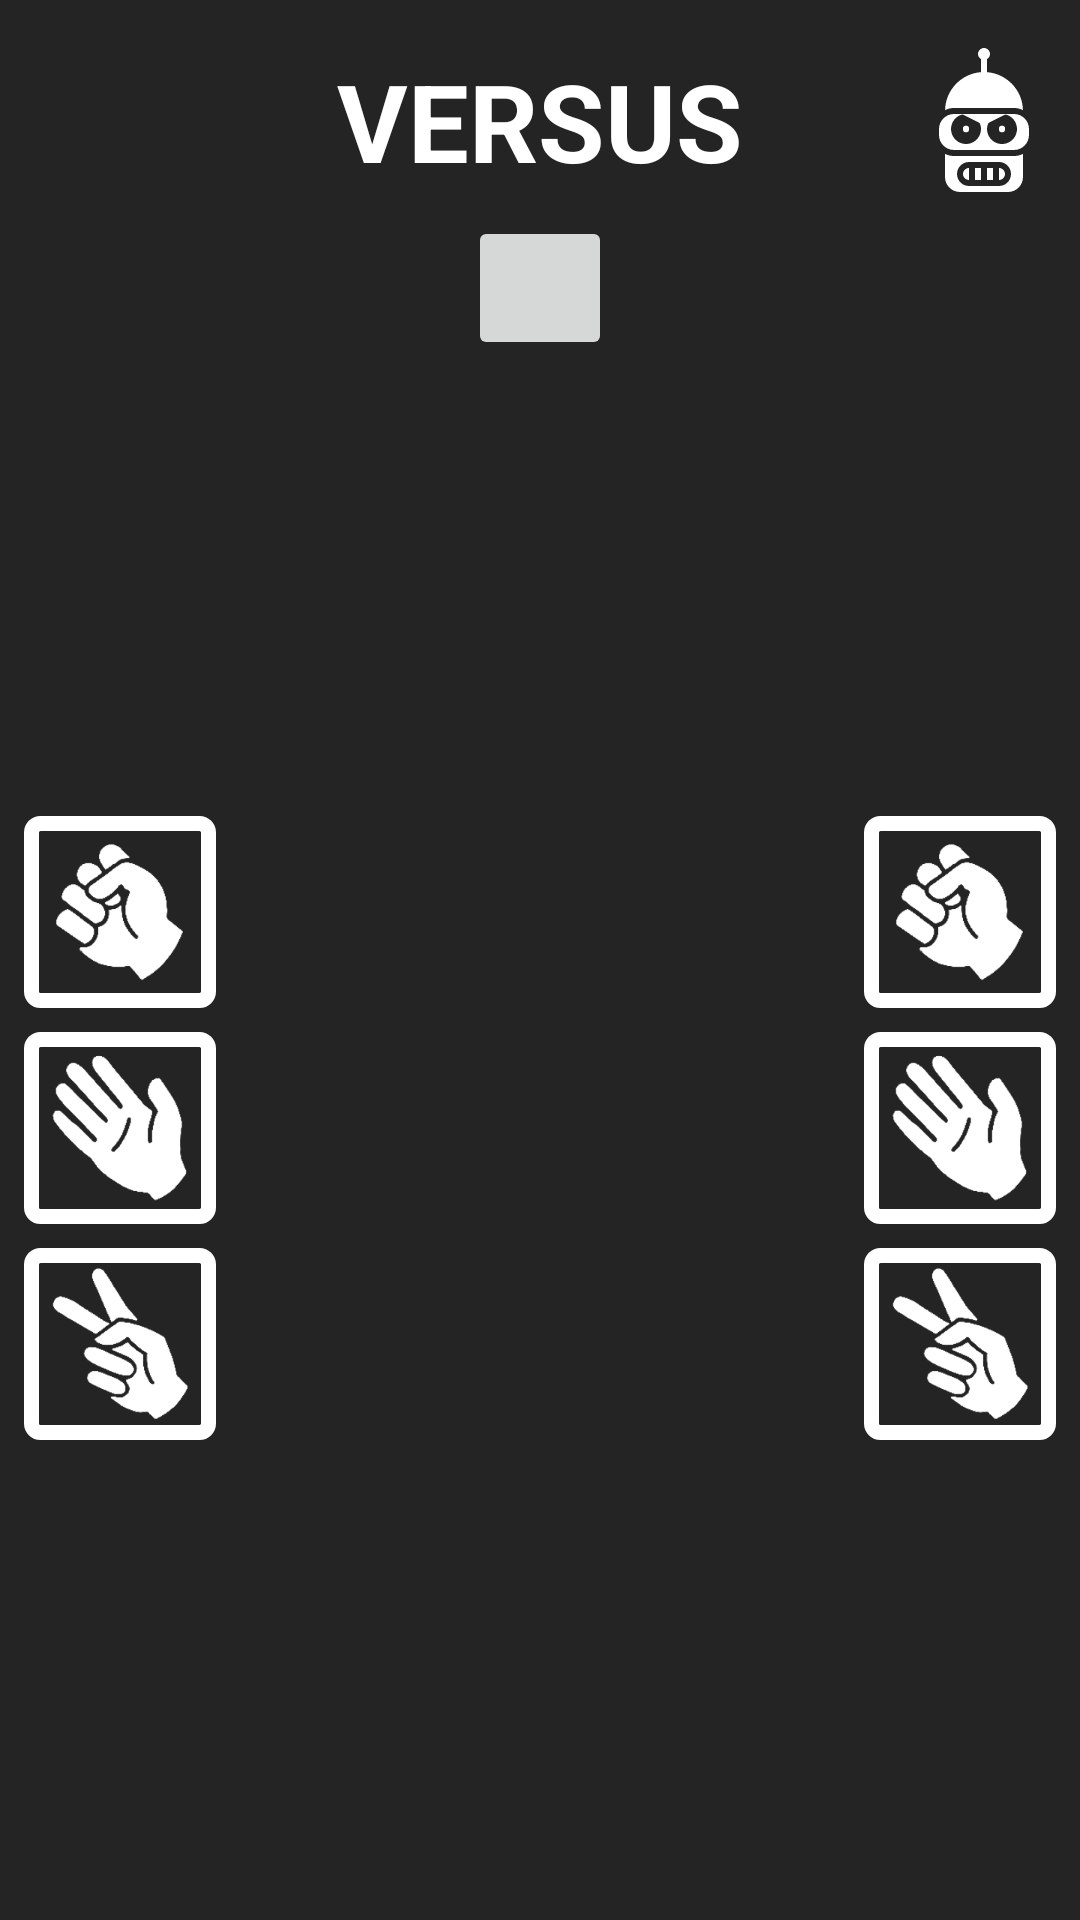

Icon bounding boxes for this 1080×1920 phone screenshot, format [x1, y1, x2, y2]:
paper borderless: [24, 1032, 216, 1224], [864, 1032, 1056, 1224]
rock borderless: [24, 816, 216, 1008], [864, 816, 1056, 1008]
scissors borderless: [24, 1248, 216, 1440], [864, 1248, 1056, 1440]
